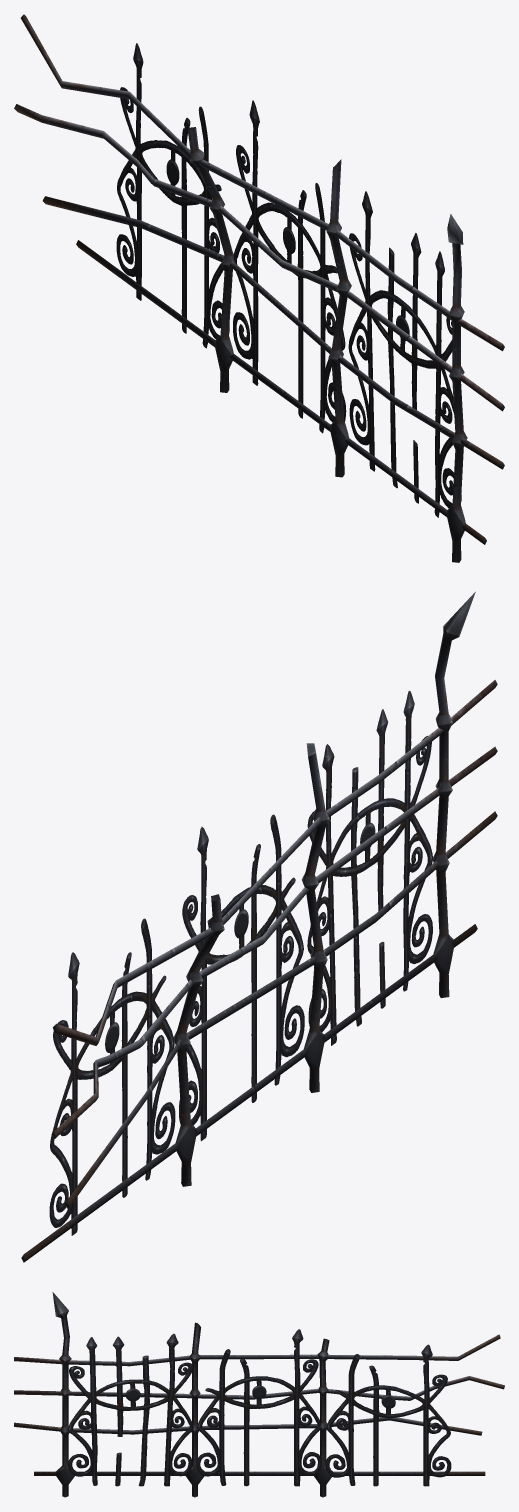
File: SleepingGarden_Fence_03.fbx
The picture shows the model from 3 angles, top to bottom: view 1: azimuth 30°, elevation 25°; view 2: azimuth 150°, elevation 25°; view 3: azimuth 270°, elevation 25°; orthographic projection. The views are drawn at different scales.
Visible parts, largest first — view 1: SleepingGarden_Fence_03; view 2: SleepingGarden_Fence_03; view 3: SleepingGarden_Fence_03.
Boxes of the visible parts, x1=… form: SleepingGarden_Fence_03: x1=14, y1=14, x2=504, y2=562; SleepingGarden_Fence_03: x1=21, y1=591, x2=497, y2=1262; SleepingGarden_Fence_03: x1=14, y1=1292, x2=504, y2=1497.
Size of the model in its own units: 0.3785 by 2.01 by 4.46.
1 material, 1 textured.
